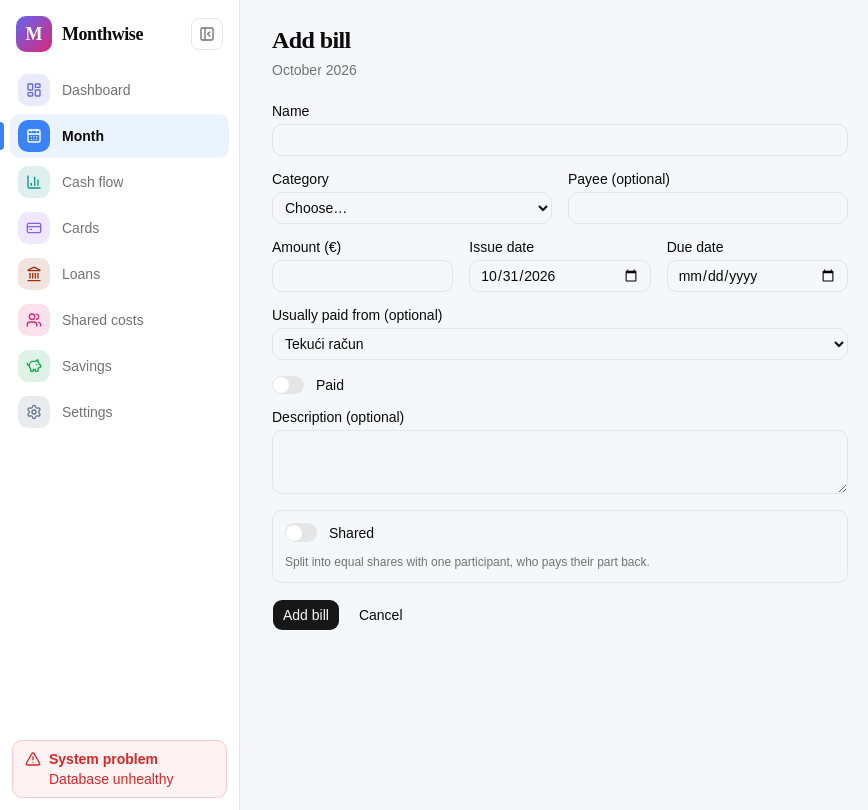
Test: Sharing a bill › refuses a shared bill without a participant
The image size is (868, 810).
Step 1. Click the 2nd switch named "Shared" → click(301, 533), box top-left (285, 523), bottom-right (317, 542)
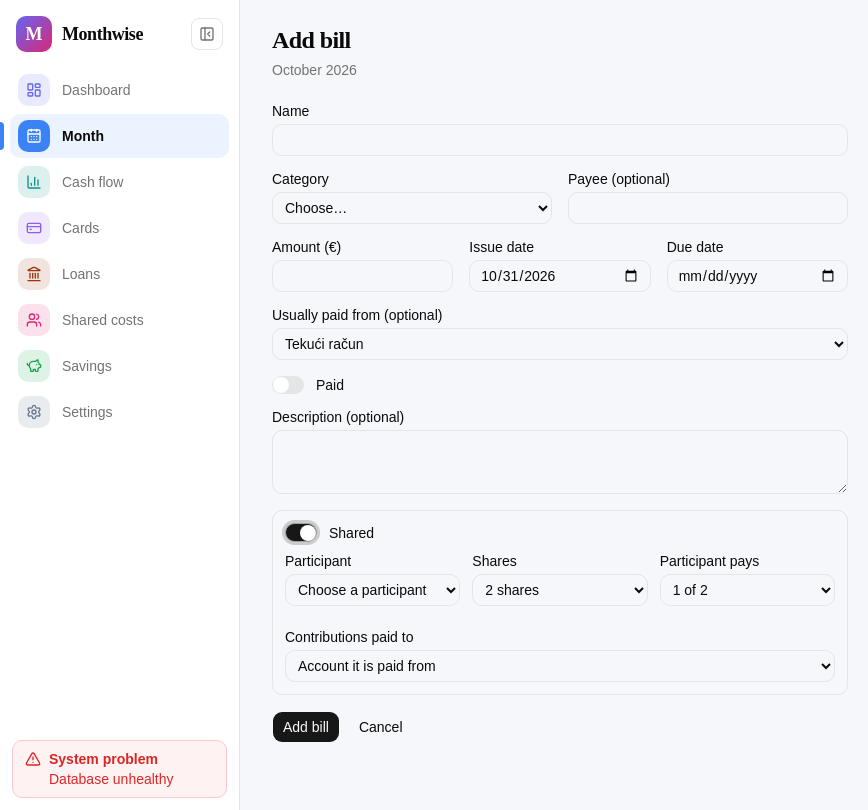
Step 2. Click the button "Add bill" → click(306, 727), box top-left (272, 711), bottom-right (340, 743)
(page scrolled)
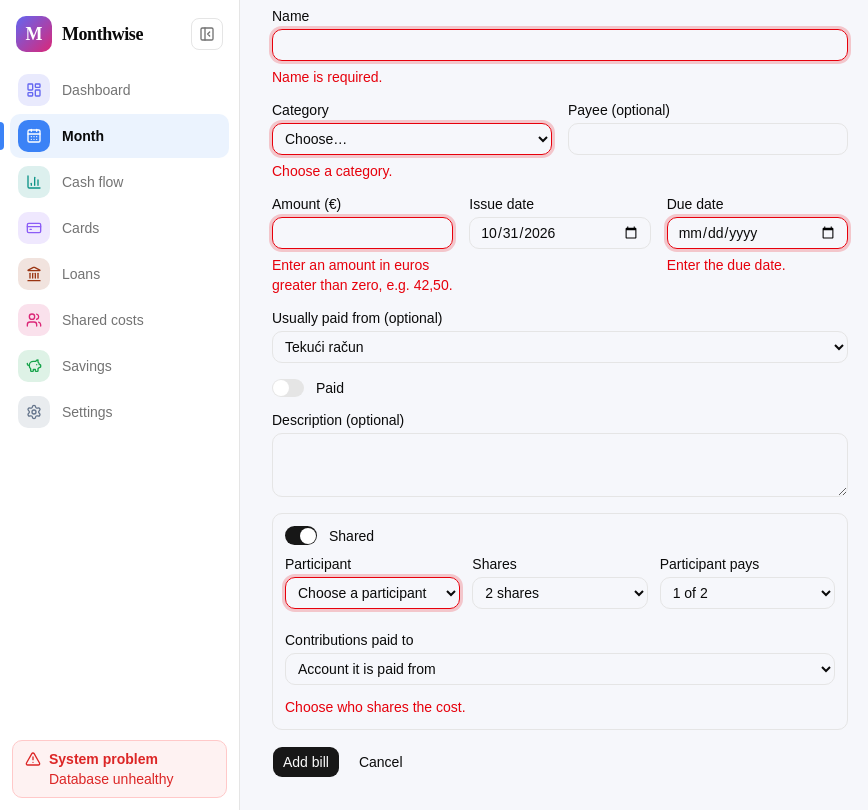
Result: the text "Choose who shares the cost." is shown at top-left (285, 699), bottom-right (466, 715)
